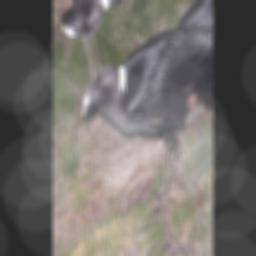Crow: (76, 11, 211, 256)
